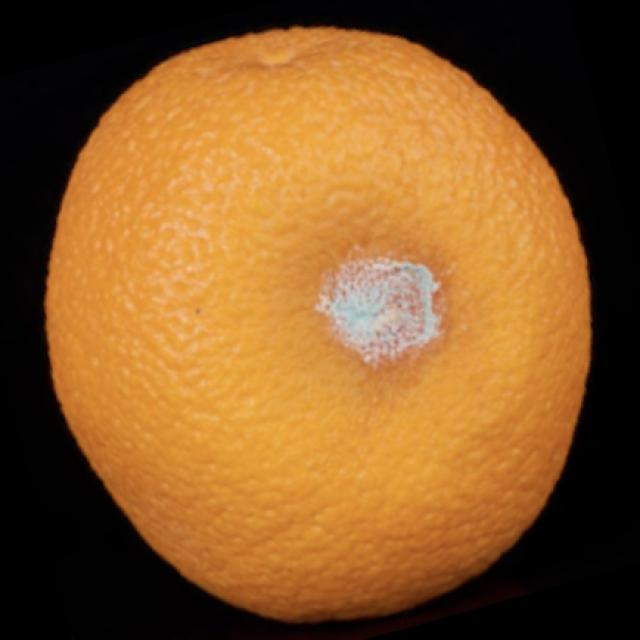sedikit-busuk: (317, 258, 440, 362)
